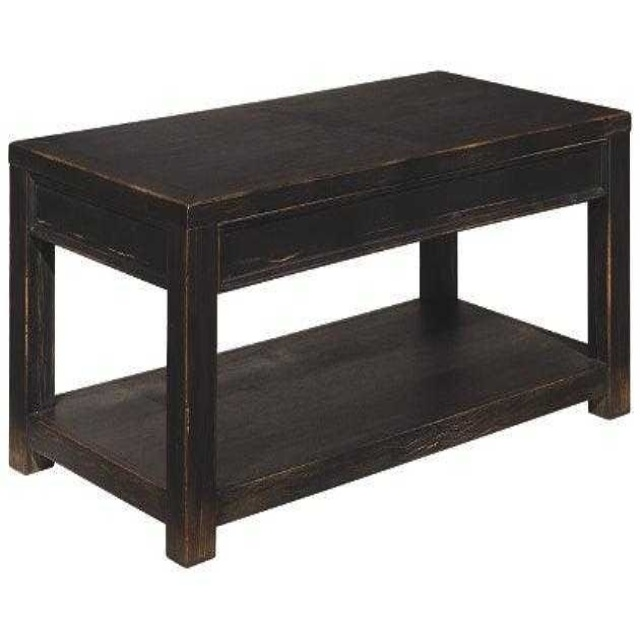obstacle: (9, 72, 630, 564)
